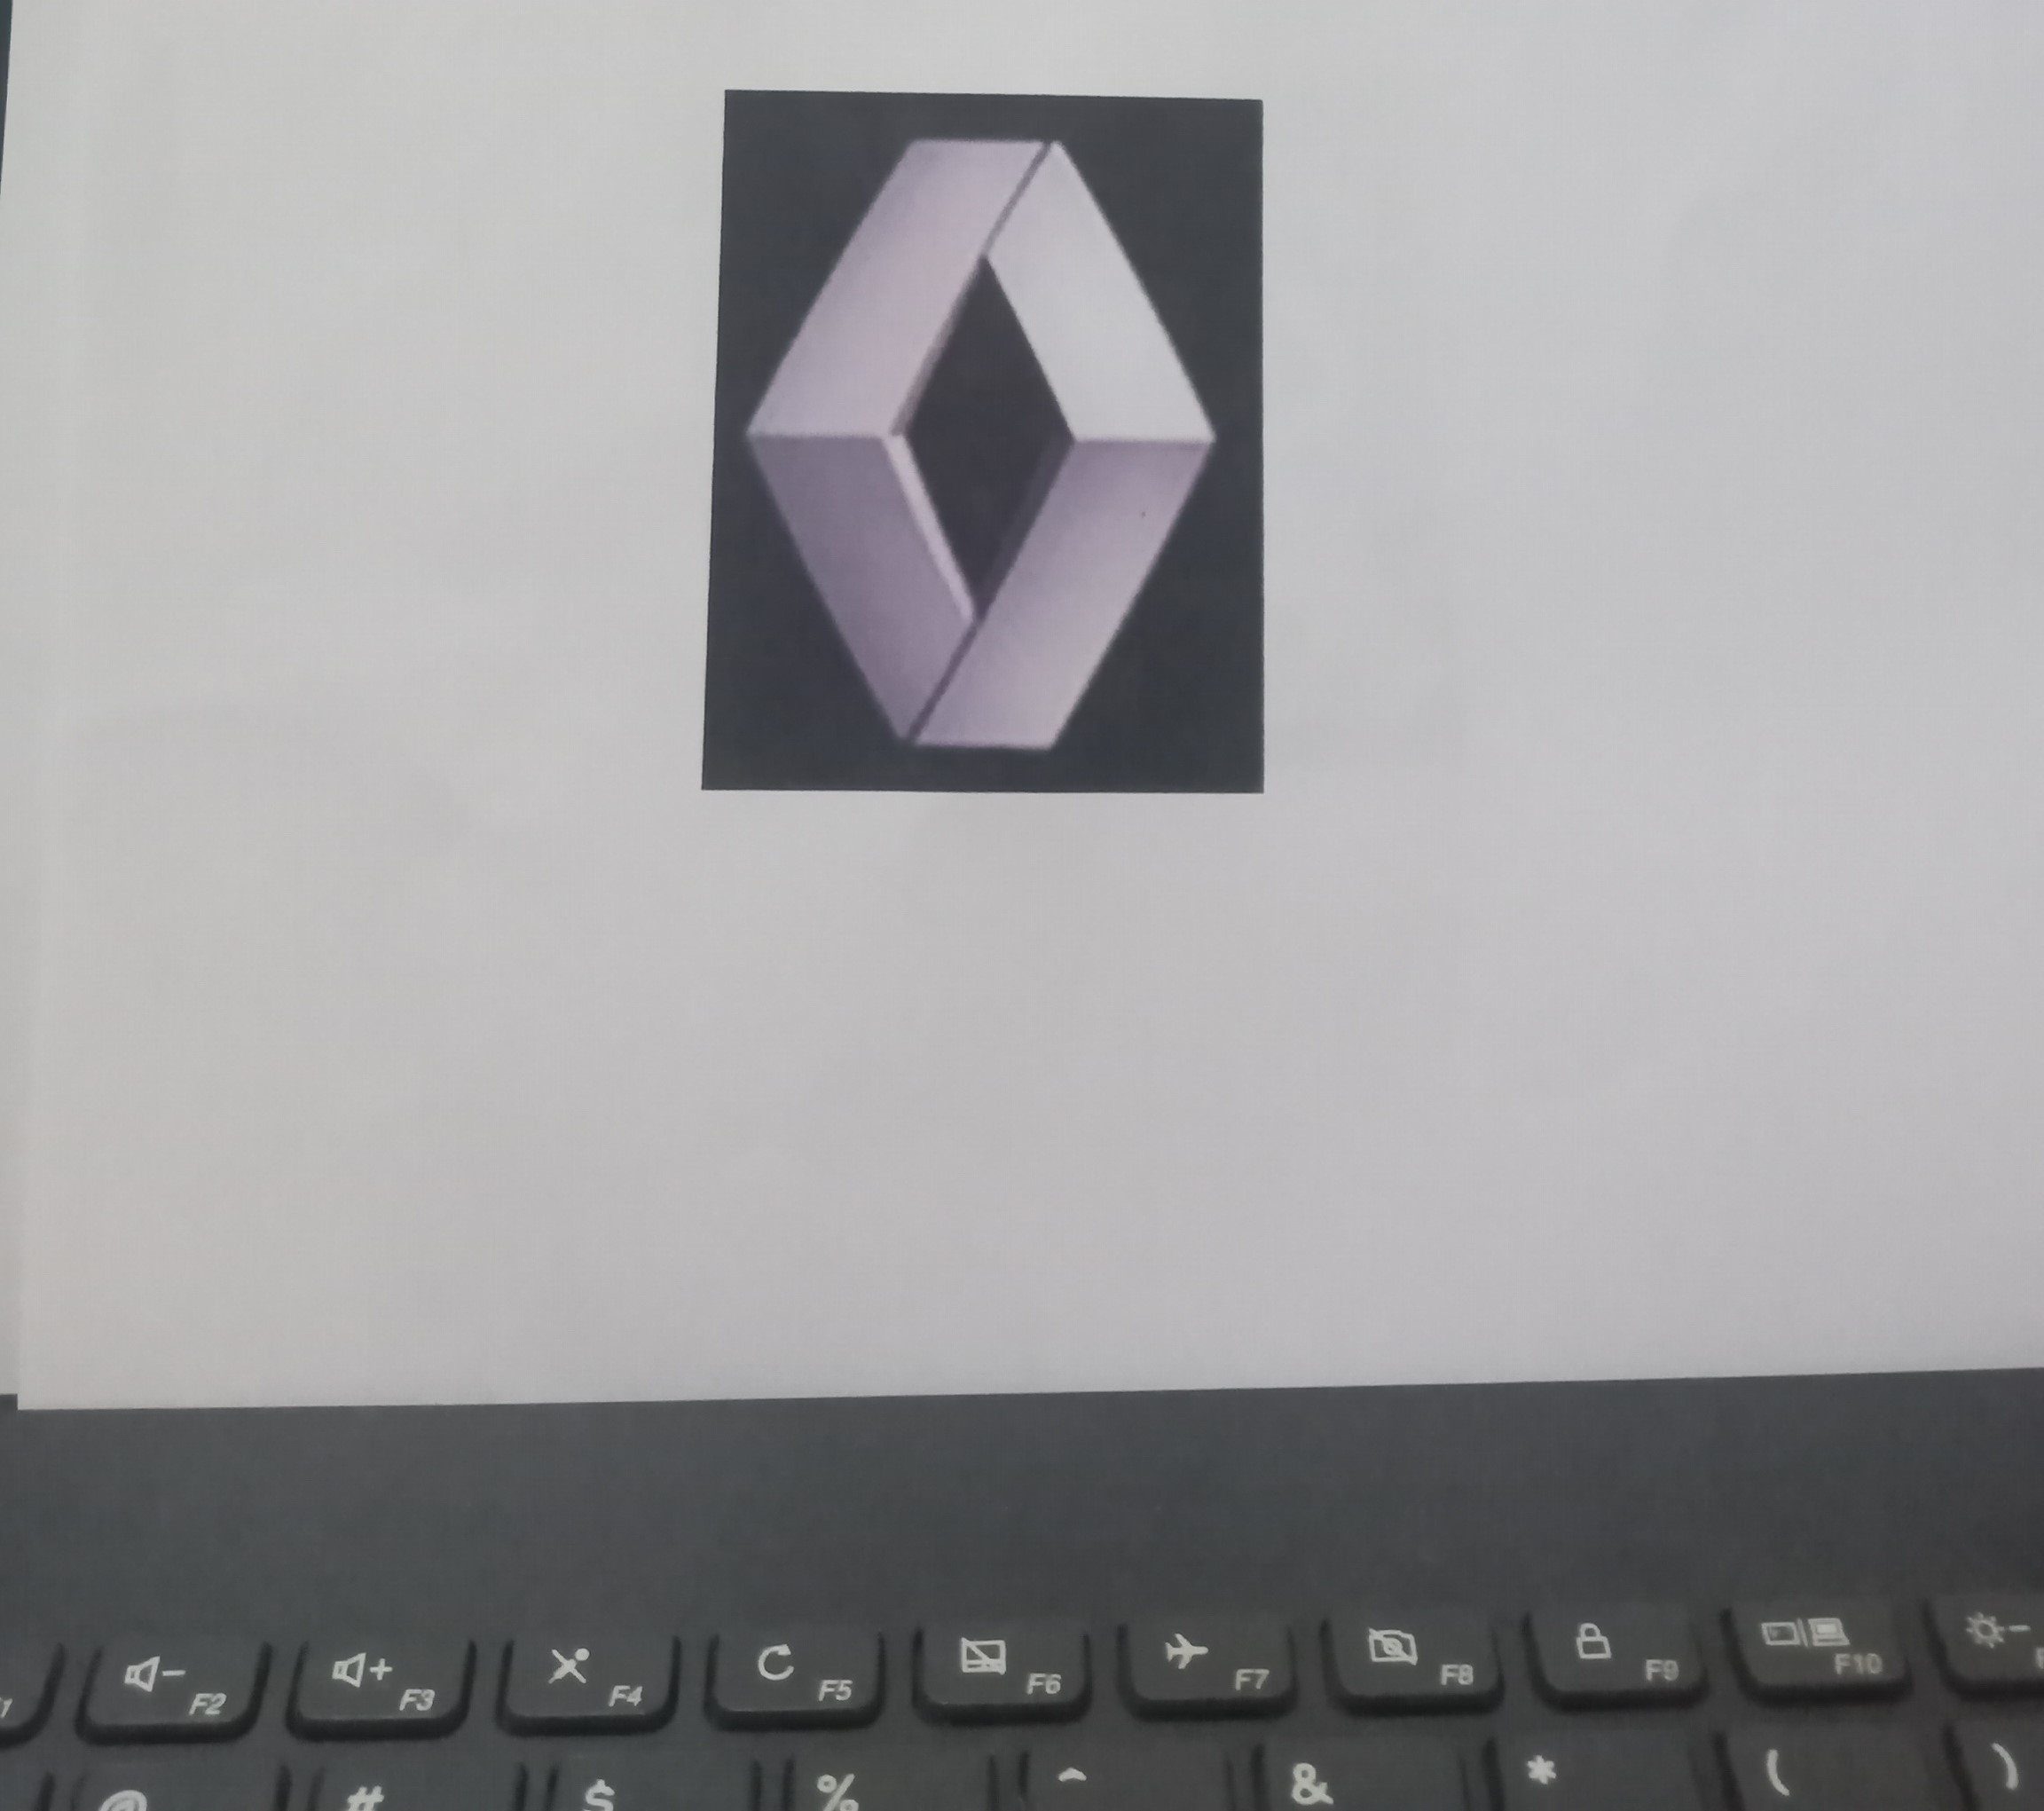Renault: (716, 107, 1239, 773)
